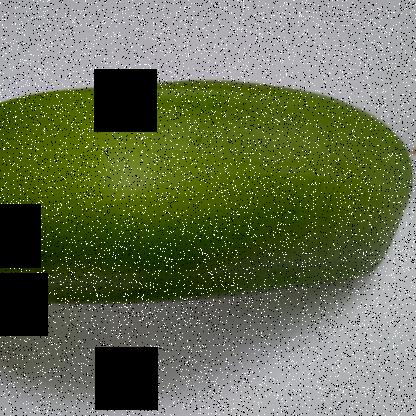freshunripe: (1, 66, 415, 317)
